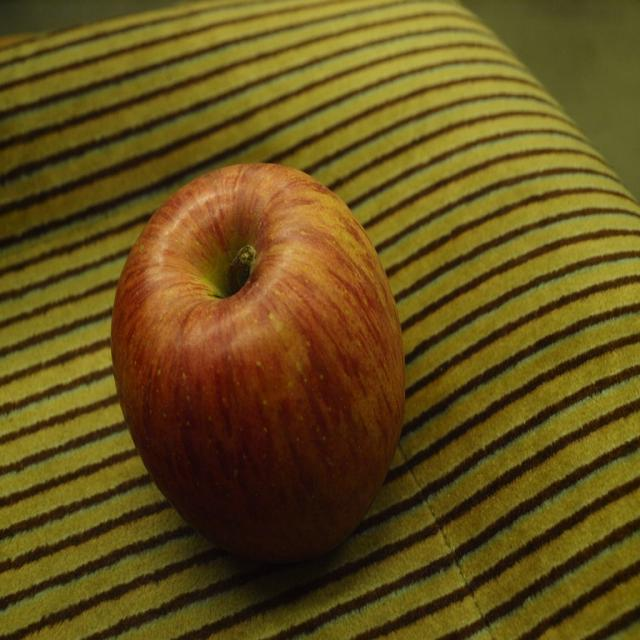Healty Apple: (110, 158, 404, 565)
